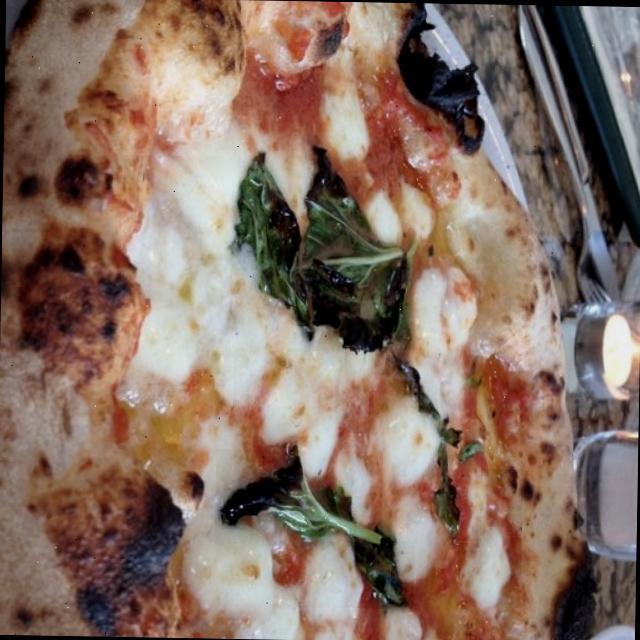basil: (233, 132, 421, 358), (213, 448, 416, 608), (382, 349, 482, 541)
cheese: (120, 154, 234, 386), (231, 318, 355, 472), (170, 512, 304, 640), (301, 28, 384, 157), (407, 254, 480, 388), (458, 465, 522, 606), (363, 389, 445, 482), (377, 484, 448, 580), (352, 176, 454, 242)
pizza: (0, 0, 585, 640)
